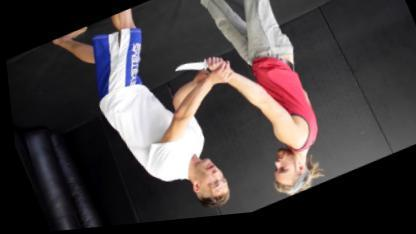knife: (166, 45, 230, 89)
